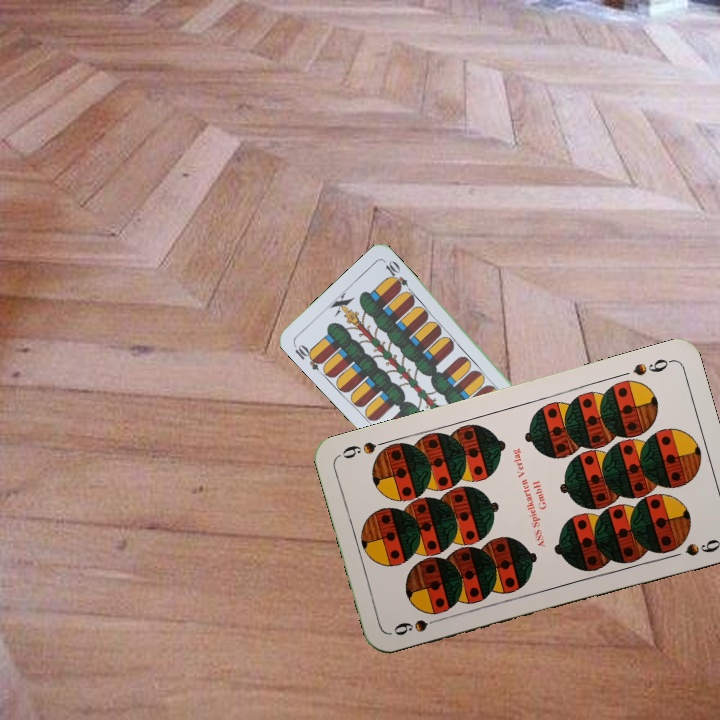E10: (290, 340, 325, 373)
S9: (390, 613, 447, 638), (628, 354, 675, 378)
